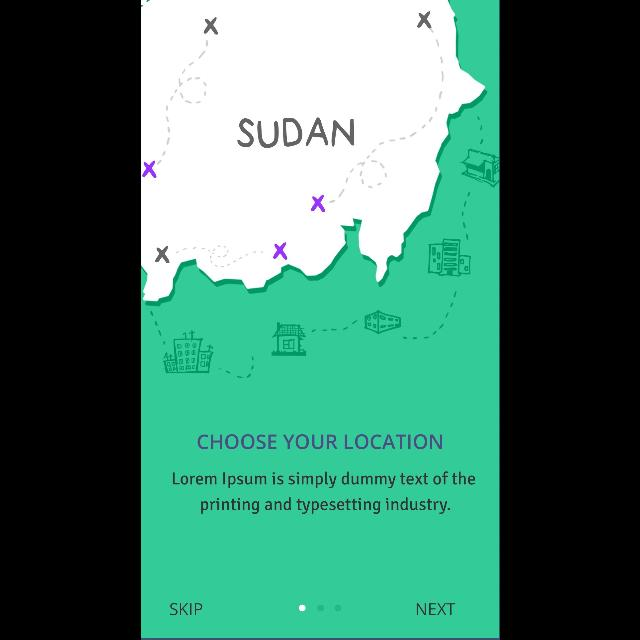image: (140, 1, 500, 380)
pageindicator: (298, 604, 340, 612)
text: (172, 472, 474, 514), (196, 434, 442, 450), (416, 603, 454, 615), (169, 602, 201, 616)
